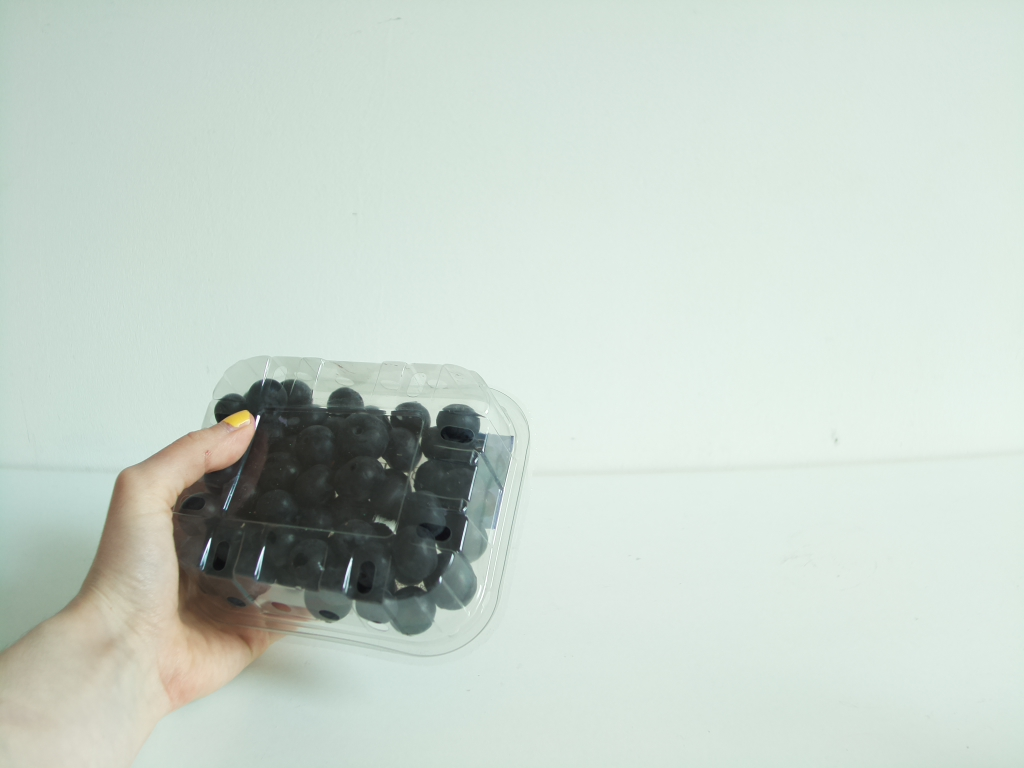soft-fruit: (168, 354, 529, 654)
